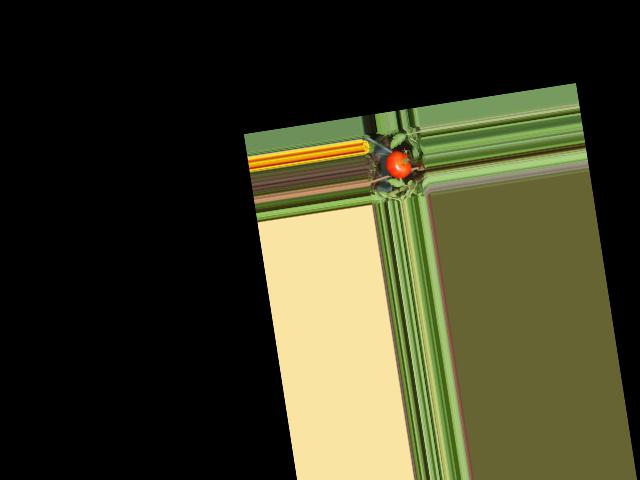tomato: (383, 149, 413, 181)
